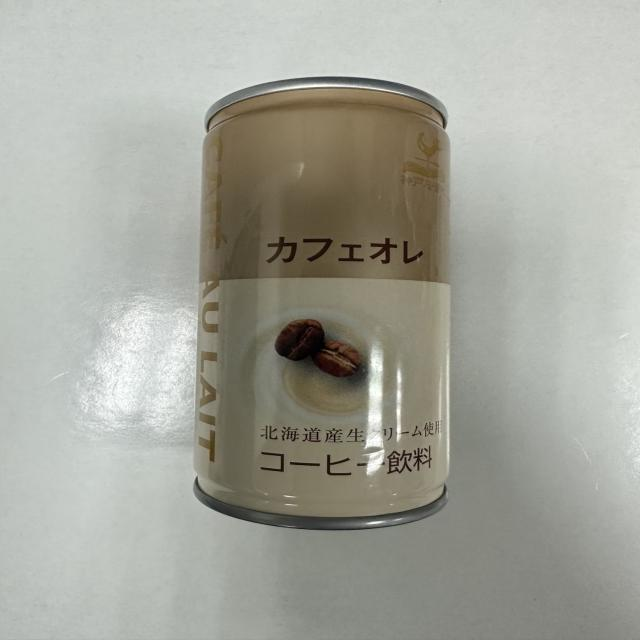Can: (198, 72, 457, 532)
